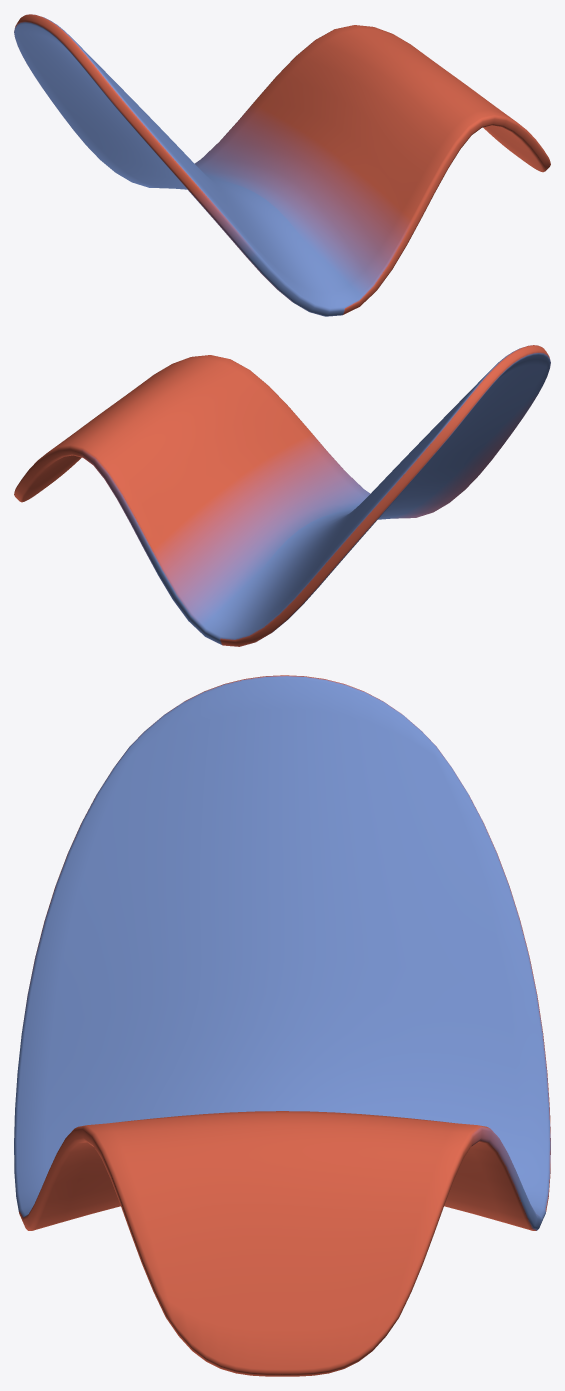
Rendered from XOBC_005.gltf.
3 renders of one model, top to bottom at view 1: azimuth 30°, elevation 25°; view 2: azimuth 150°, elevation 25°; view 3: azimuth 270°, elevation 25°, orthographic. The views are drawn at different scales.
Visible parts, largest first — view 1: wavy chair; view 2: wavy chair; view 3: wavy chair.
Part boxes in pixels (box(x1,y1,x2,y2)): wavy chair: box(14, 14, 550, 316); wavy chair: box(14, 345, 550, 646); wavy chair: box(14, 675, 550, 1376).
Size of the model in its own units: 4.2 by 2.3 by 2.77.
1 material, 1 textured.
